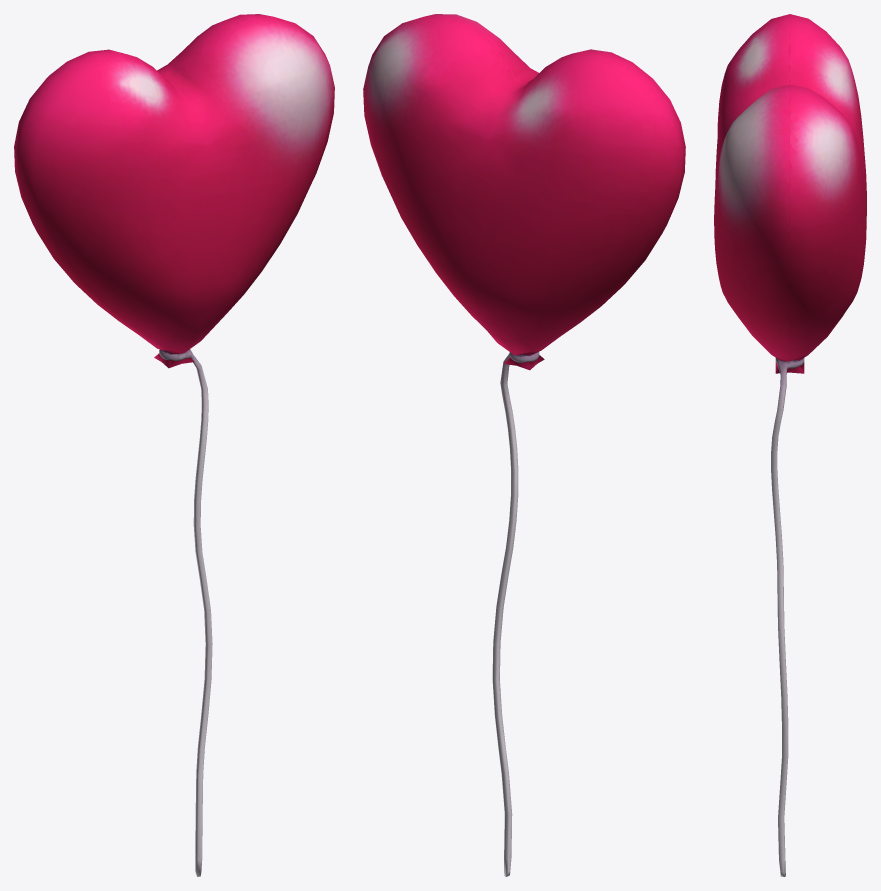
Rendered from valentines day balloon.glb.
The picture shows the model from 3 angles, left to right: view 1: azimuth 30°, elevation 25°; view 2: azimuth 150°, elevation 25°; view 3: azimuth 270°, elevation 25°; orthographic projection. The views are drawn at different scales.
Parts seen in each view (by area): view 1: valentines day balloon; view 2: valentines day balloon; view 3: valentines day balloon.
Part boxes in pixels (box(x1,y1,x2,y2)): valentines day balloon: box(14, 14, 334, 876); valentines day balloon: box(363, 14, 685, 876); valentines day balloon: box(714, 14, 866, 876).
Bounding box in the file's own units: 1.93 × 4.98 × 0.8514.
1 material, 1 textured.
